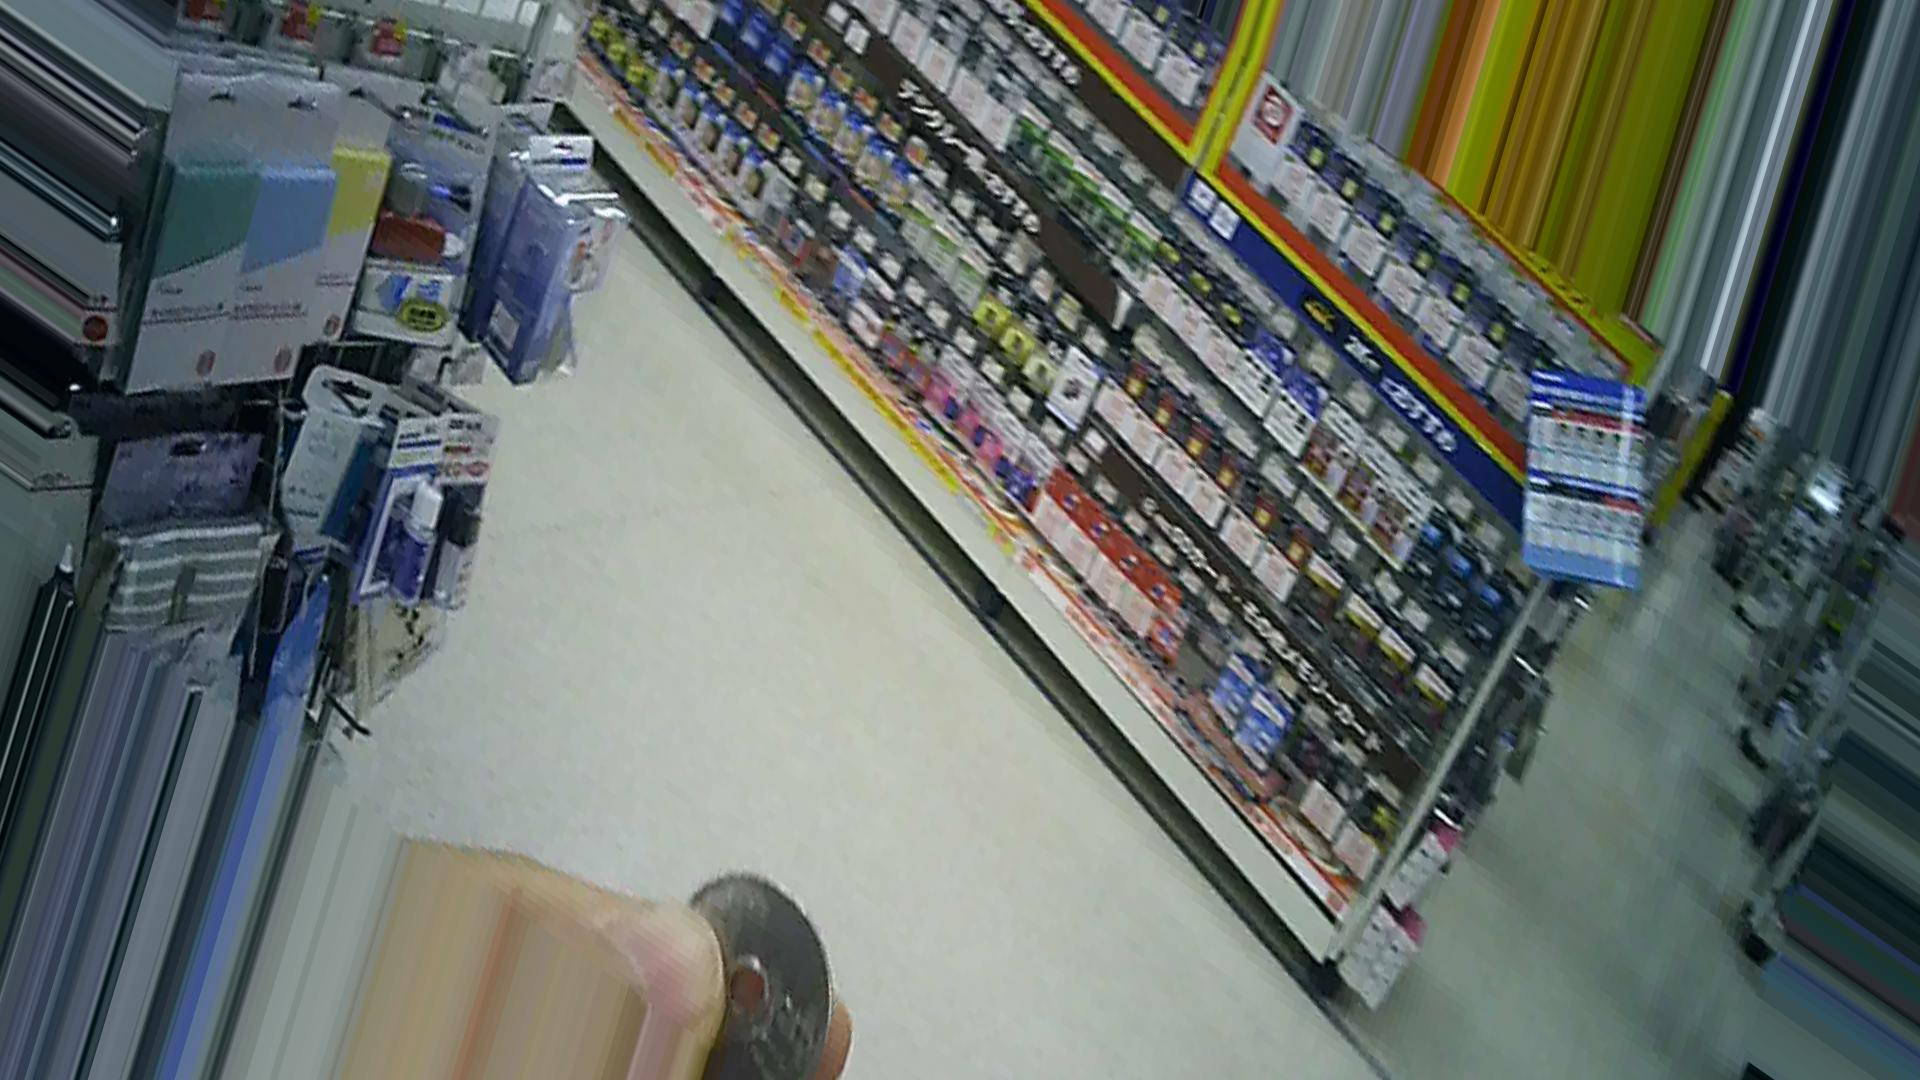50 Yen: (659, 872, 835, 1079)
